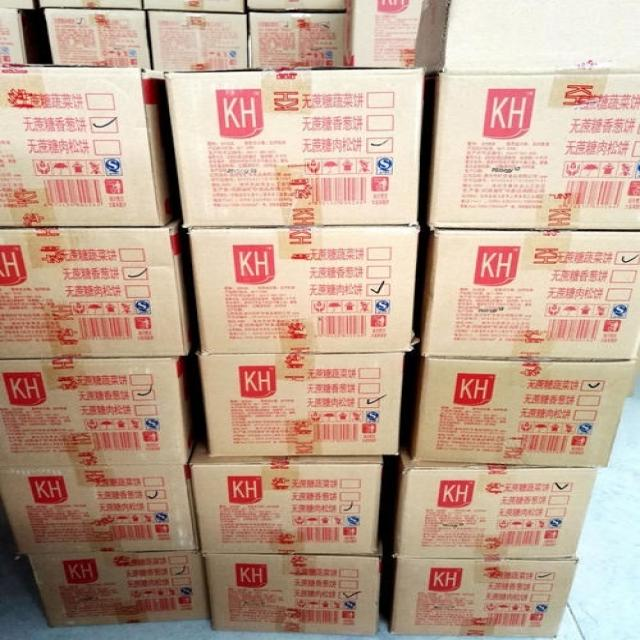box: (167, 67, 428, 226), (429, 73, 639, 231), (190, 226, 421, 356), (0, 66, 181, 227), (419, 231, 639, 362), (0, 220, 191, 360), (402, 358, 638, 469), (190, 421, 382, 555), (0, 353, 197, 472), (387, 450, 601, 558), (196, 355, 403, 456), (0, 466, 198, 557), (383, 548, 579, 637), (23, 550, 209, 629), (201, 556, 381, 633), (45, 8, 152, 69), (149, 10, 249, 72), (248, 13, 348, 70), (349, 1, 426, 67), (0, 7, 53, 66), (248, 1, 352, 15), (148, 0, 245, 14), (38, 0, 146, 11)
